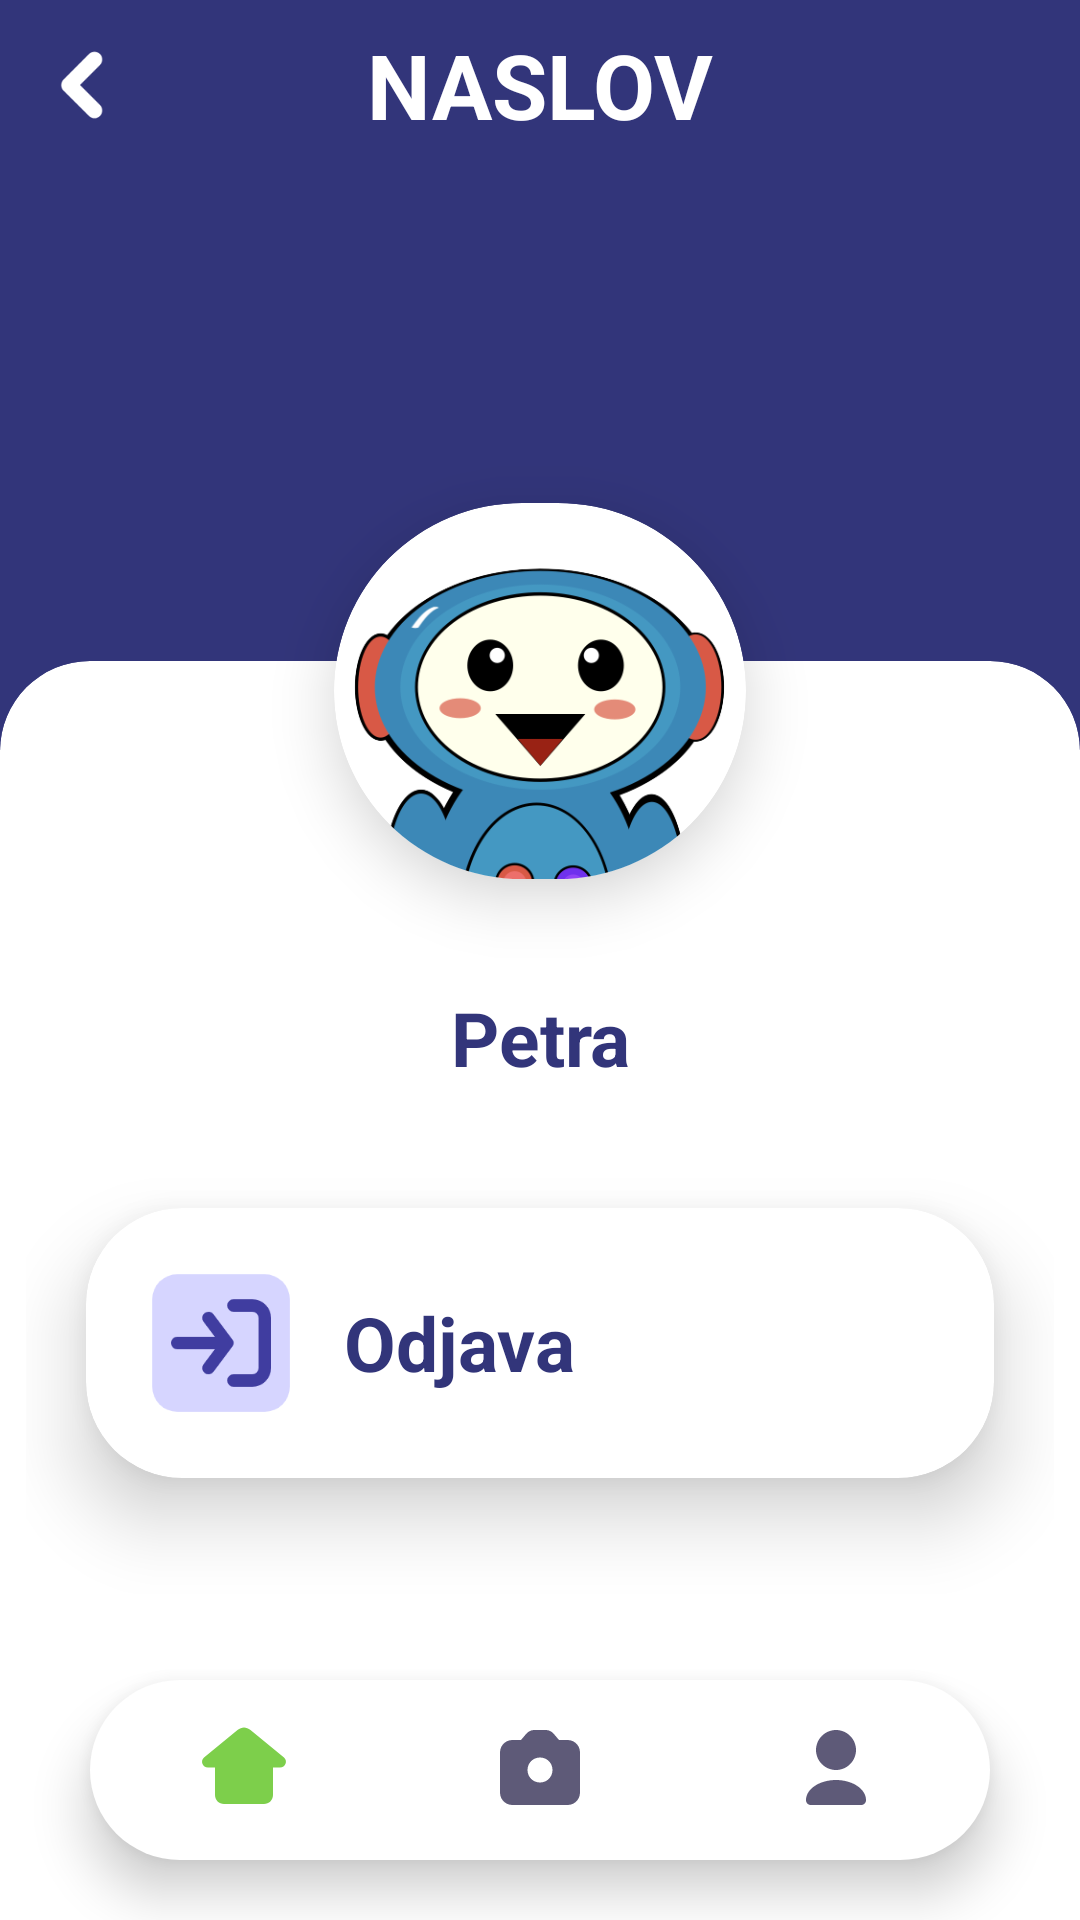

Icon bounding boxes for this 1080px×1920px phone screenshot, format (x1, y1, x2, y2):
back button: (61, 51, 103, 119)
